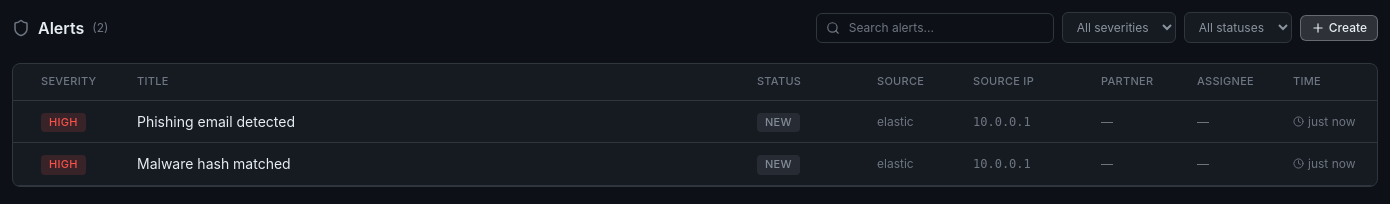
Scenario: AlertsListPage › filters alerts client-side using the search box
Expected: the text "Phishing email detected" is shown, [137,112,295,130]
Type "phishing" into the field with placeholder "Search alerts..." at {"x": 935, "y": 28}, box [816,12,1054,42]
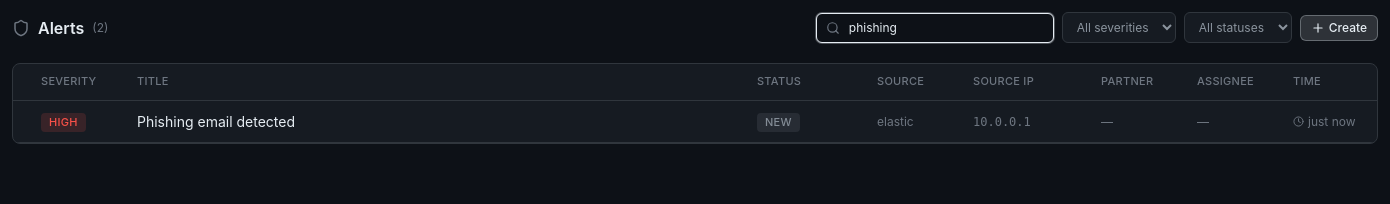
Expected: the text "Phishing email detected" is shown, [137,112,295,130]
Result: the text "Malware hash matched" is gone
